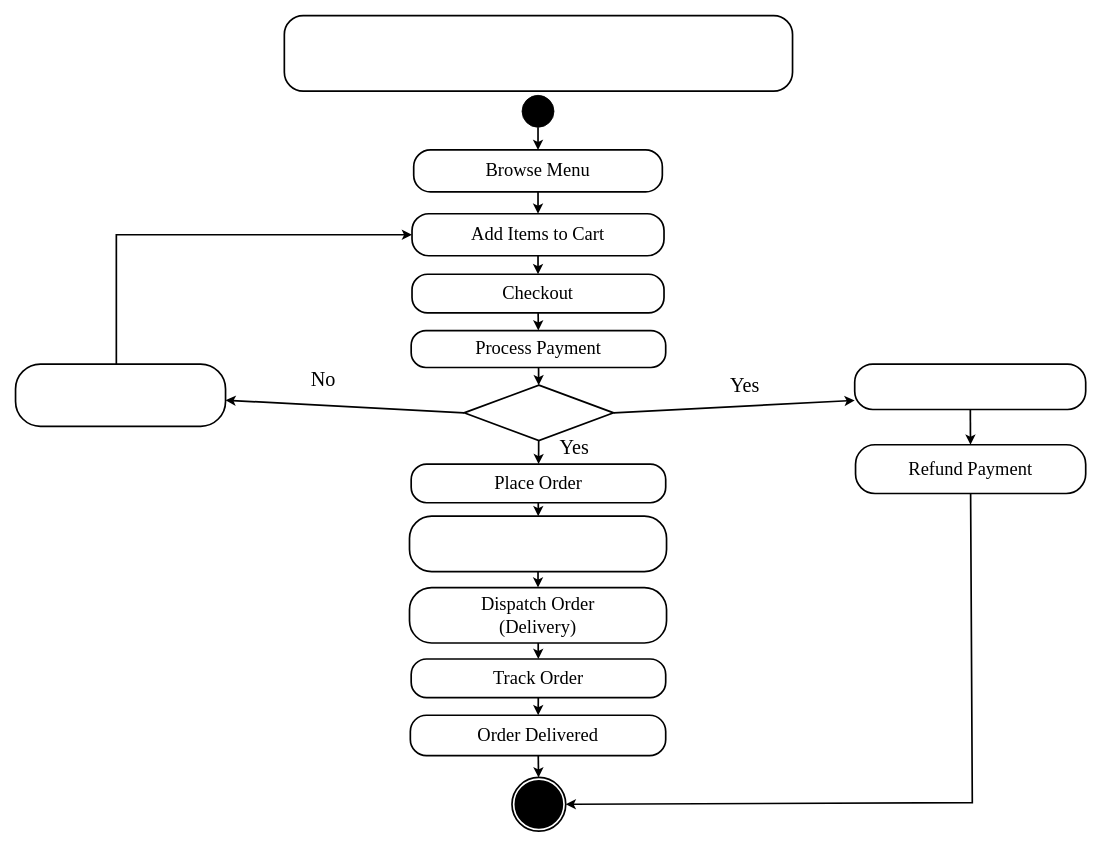
Image size: 1100x846. Some labels were removed from this diagram. The shapes that lost their labels are listed below. From the top down, each one's centre as x and y in pixels, then its label:
pixel 538 53: CRAV – Food Ordering System Statechart Diagram
pixel 120 395: Show Error Message
pixel 969 386: Cancel Order
pixel 538 412: Payment Successful?
pixel 537 543: Prepare Order (Kitchen)
